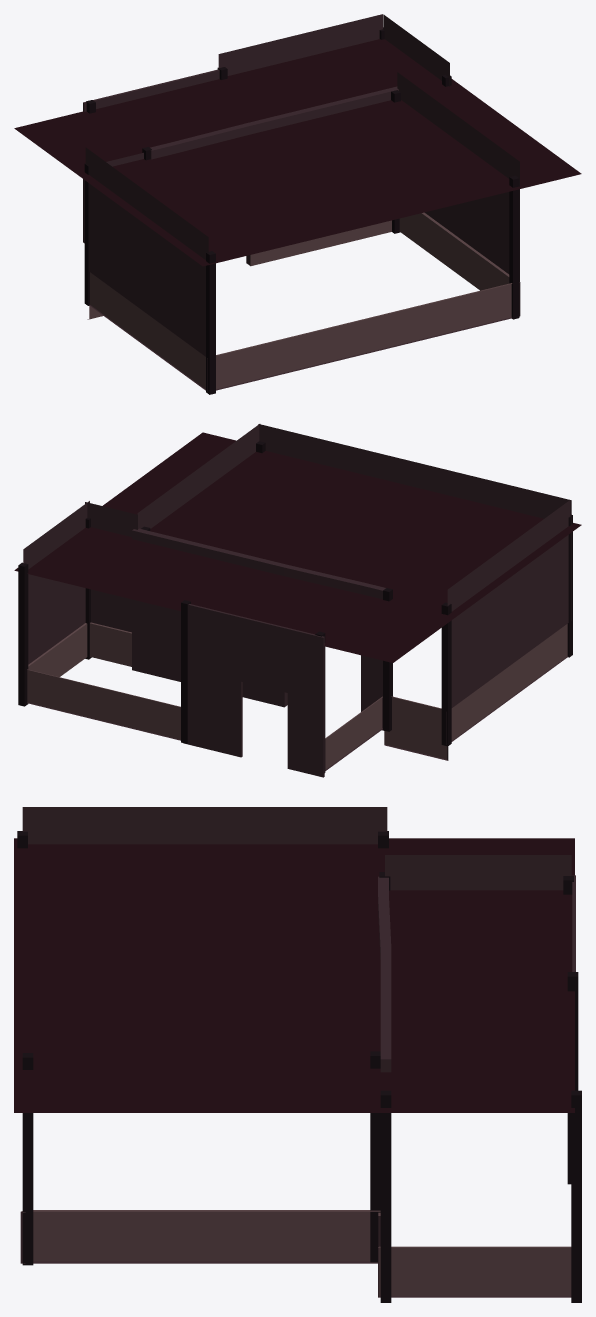
The model's file is Paredes.fbx.
3 views of the same model, one above another, from view 1: azimuth 30°, elevation 25°; view 2: azimuth 150°, elevation 25°; view 3: azimuth 270°, elevation 25° (orthographic). The views are drawn at different scales.
Parts seen in each view (by area): view 1: Plane, Cube.008; view 2: Cube.008, Plane; view 3: Plane, Cube.008.
Part boxes in pixels (x1=…): Plane: x1=14, y1=39, x2=581, y2=266; Cube.008: x1=83, y1=14, x2=520, y2=394; Cube.008: x1=18, y1=424, x2=572, y2=777; Plane: x1=14, y1=432, x2=581, y2=662; Plane: x1=14, y1=838, x2=574, y2=1112; Cube.008: x1=17, y1=807, x2=581, y2=1302.
Bounding box in the file's own units: 2095 × 908 × 1829.
